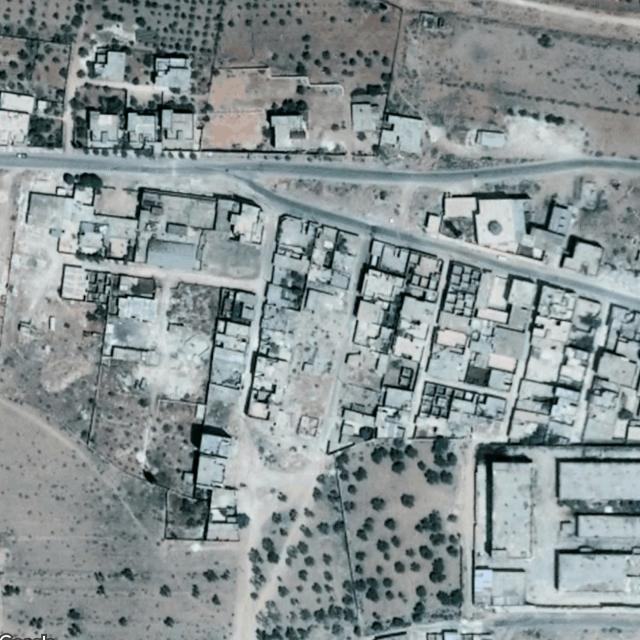damaged_building: (287, 293, 351, 378)
